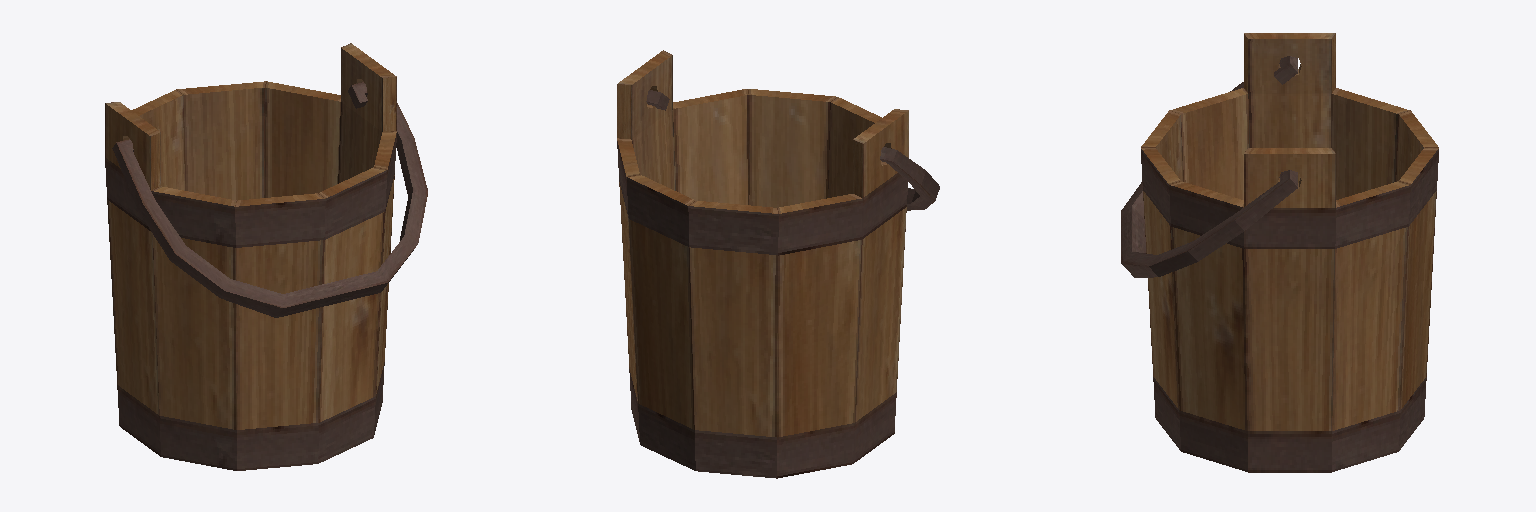
3 views of the same model, side by side, from view 1: azimuth 30°, elevation 25°; view 2: azimuth 150°, elevation 25°; view 3: azimuth 270°, elevation 25° (orthographic).
Parts seen in each view (by area): view 1: skin; view 2: skin; view 3: skin.
Boxes of the visible parts, x1=… form: skin: x1=105, y1=43, x2=427, y2=470; skin: x1=617, y1=50, x2=939, y2=478; skin: x1=1121, y1=33, x2=1438, y2=472.
Bounding box in the file's own units: 2.1 × 2.4 × 2.13.
1 materials, 1 textured.